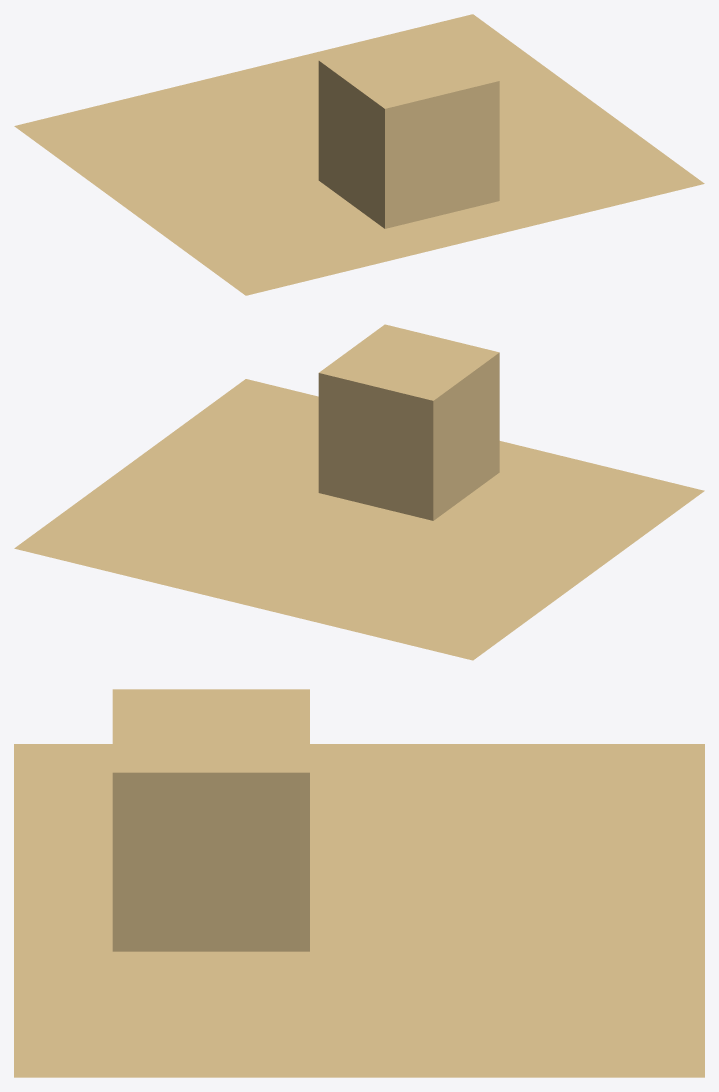
The model's file is SSGIRecovery.gltf.
3 renders of one model, top to bottom at view 1: azimuth 30°, elevation 25°; view 2: azimuth 150°, elevation 25°; view 3: azimuth 270°, elevation 25°, orthographic. The views are drawn at different scales.
Parts seen in each view (by area): view 1: SSGIRecovery; view 2: SSGIRecovery; view 3: SSGIRecovery.
Boxes of the visible parts, left/top/right/bottom form: SSGIRecovery: left=14, top=14, right=704, bottom=295; SSGIRecovery: left=14, top=324, right=704, bottom=660; SSGIRecovery: left=14, top=689, right=704, bottom=1077.
Size of the model in its own units: 8 by 2.01 by 7.
